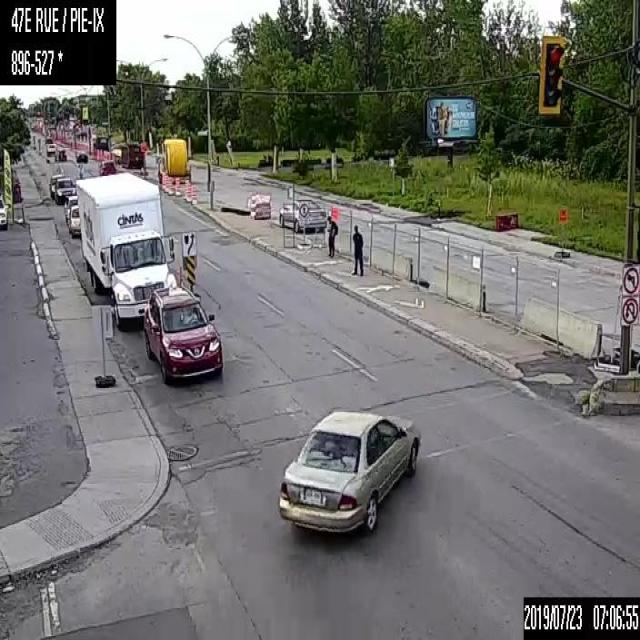construction: (186, 182, 191, 201), (174, 175, 179, 194), (191, 186, 196, 202), (178, 265, 182, 284)
pedestrian: (350, 224, 364, 276), (326, 215, 338, 257)
vehicle: (275, 404, 422, 532), (74, 170, 176, 331), (142, 286, 223, 385), (276, 196, 328, 233), (54, 176, 76, 204), (64, 194, 78, 222), (68, 205, 80, 236), (48, 172, 61, 197), (0, 194, 8, 230), (74, 150, 87, 162), (55, 148, 67, 161), (46, 142, 56, 156), (43, 136, 52, 145)
